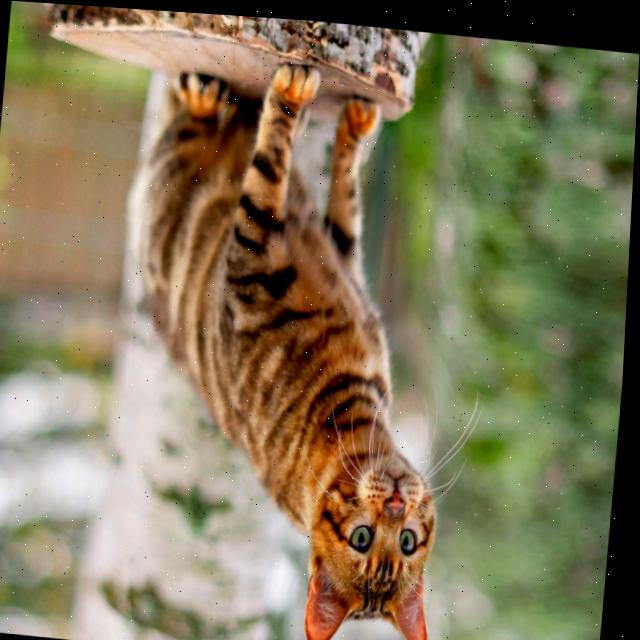Toyger: (107, 39, 482, 640)
